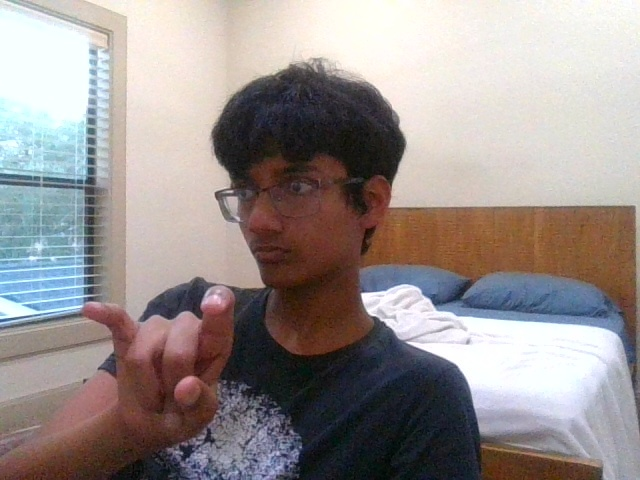ly: (81, 286, 236, 442)
